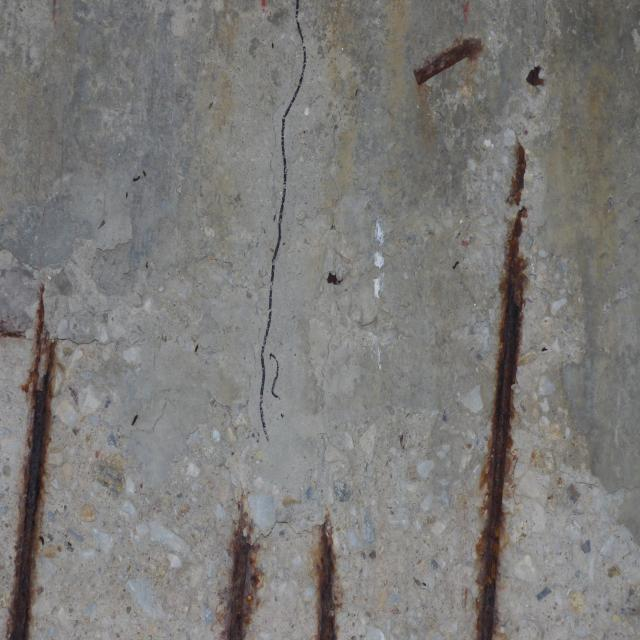corrosion: (408, 32, 552, 640), (210, 486, 352, 640), (8, 246, 56, 640)
